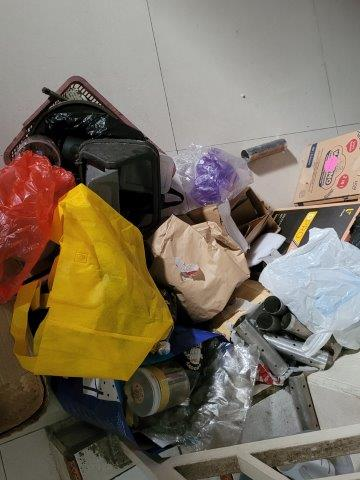kardus: (296, 131, 360, 204)
plastik: (256, 229, 360, 351), (1, 156, 66, 305), (171, 145, 255, 207)
